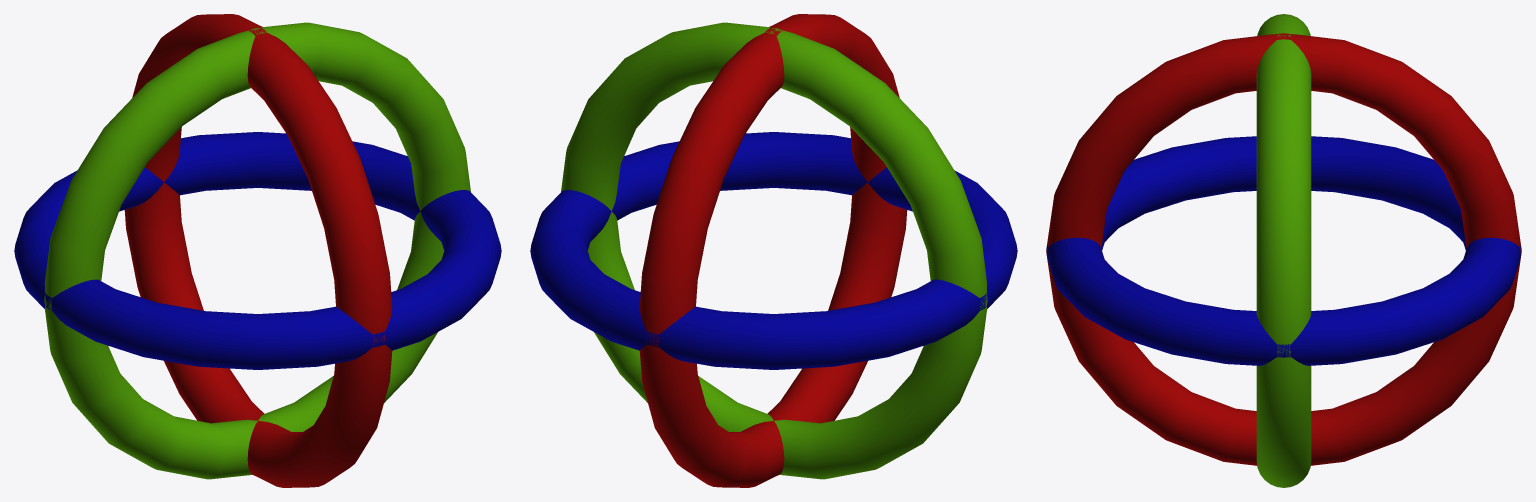
The model's file is R_axis_V02.glb.
3 renders of one model, left to right at view 1: azimuth 30°, elevation 25°; view 2: azimuth 150°, elevation 25°; view 3: azimuth 270°, elevation 25°, orthographic. The views are drawn at different scales.
Visible parts, largest first — view 1: Pitch, Roll, Heading; view 2: Pitch, Roll, Heading; view 3: Roll, Heading, Pitch.
Boxes of the visible parts, x1,y1,x2,y2 form: Pitch: (44, 22, 470, 479); Roll: (124, 14, 392, 487); Heading: (14, 132, 501, 369); Pitch: (561, 22, 987, 479); Roll: (639, 14, 907, 487); Heading: (530, 132, 1017, 369); Roll: (1046, 33, 1521, 465); Heading: (1046, 136, 1521, 365); Pitch: (1256, 14, 1311, 487).
Size of the model in its own units: 2.64 by 2.64 by 2.64.
